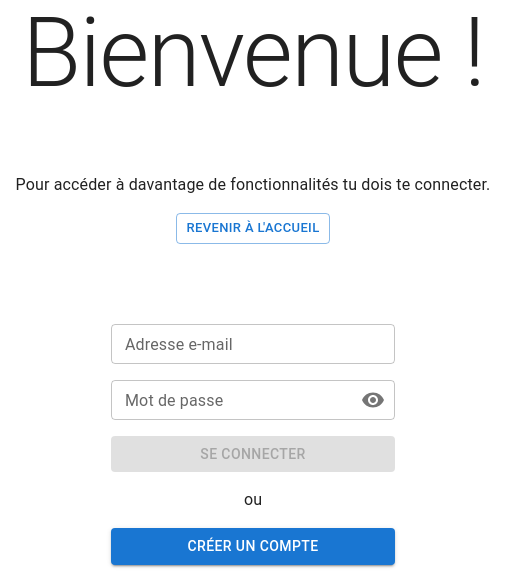
Login › enables submit button when inputs are not empty
The image size is (506, 585).
Type "johndoe@mail.com" into the field with test id "email-input" at point(253, 344), box [111, 324, 395, 364]
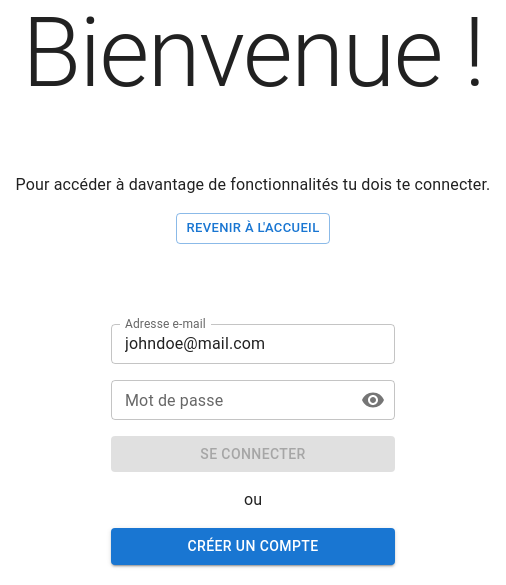
Type "abcdefghijk" into the password field with test id "password-input" at point(228, 400), box [111, 380, 345, 420]
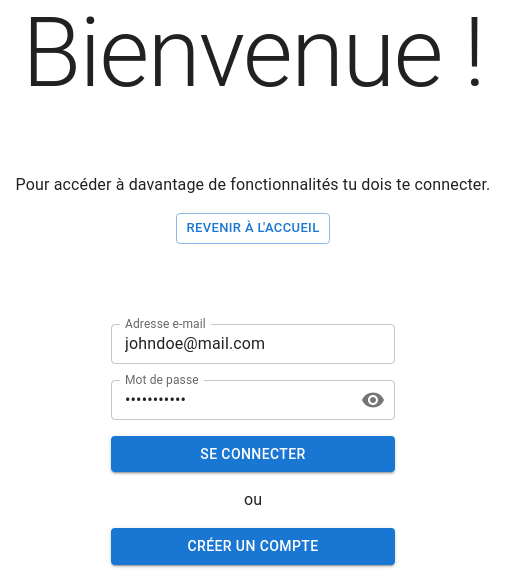
Check: the button "Se connecter" is enabled, box [111, 436, 395, 472]
